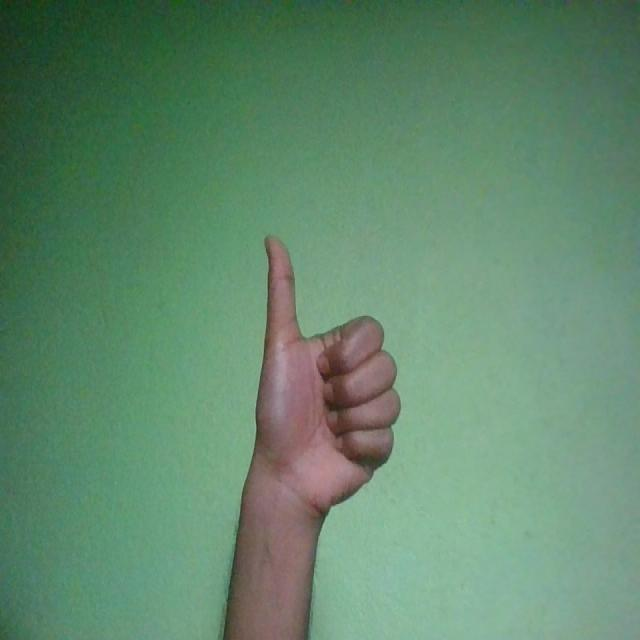Good Job: (256, 234, 402, 518)
